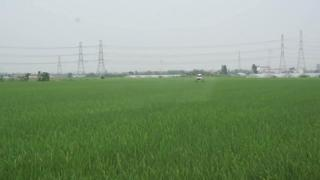UAV: (187, 72, 214, 83)
